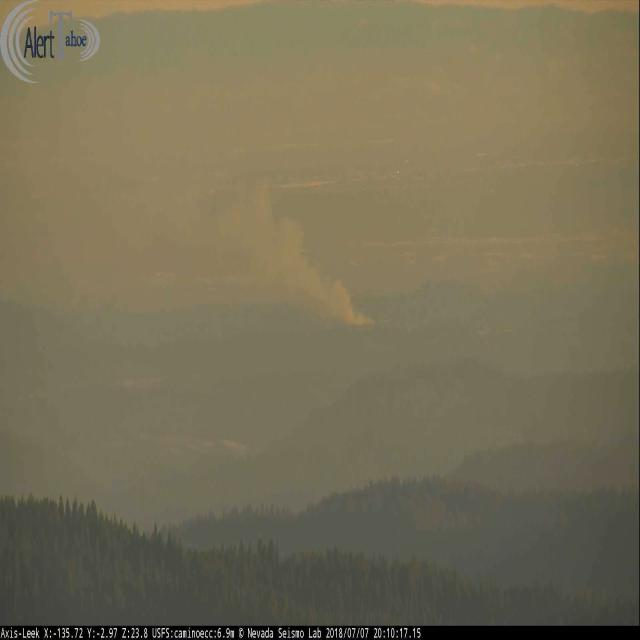smoke: (250, 188, 375, 325)
